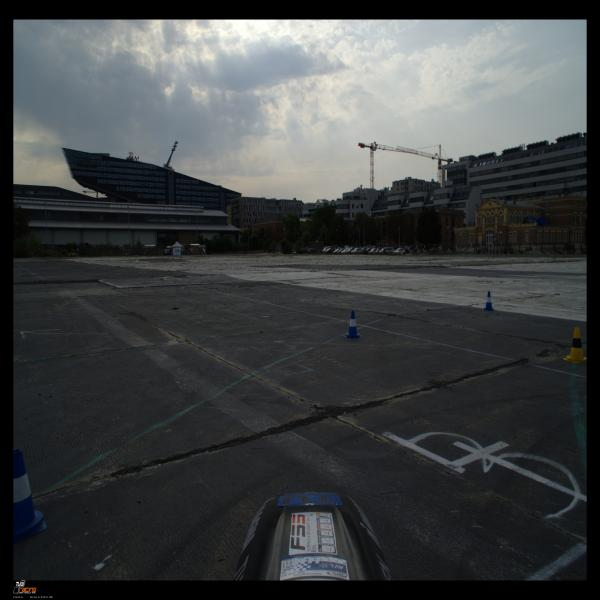blue_cone: (14, 449, 48, 544), (345, 311, 361, 338), (482, 291, 496, 311)
yellow_cone: (563, 327, 587, 363)
